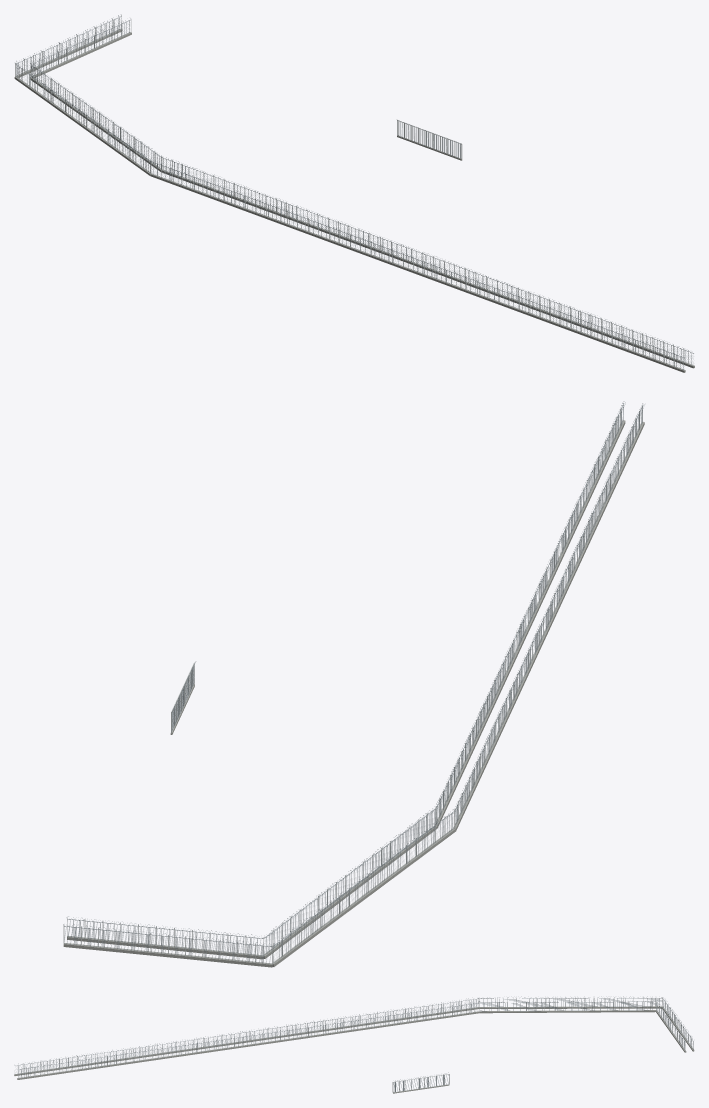
File: security_fence.glb
3 renders of one model, top to bottom at view 1: azimuth 30°, elevation 25°; view 2: azimuth 150°, elevation 25°; view 3: azimuth 270°, elevation 25°, orthographic. The views are drawn at different scales.
Parts seen in each view (by area): view 1: security_fence_158, security_fence_156, security_fence_157; view 2: security_fence_158, security_fence_156, security_fence_157; view 3: security_fence_158, security_fence_156, security_fence_157.
Boxes of the visible parts, x1=… form: security_fence_158: x1=15, y1=14, x2=693, y2=370; security_fence_156: x1=14, y1=29, x2=694, y2=372; security_fence_157: x1=15, y1=15, x2=684, y2=366; security_fence_158: x1=63, y1=401, x2=644, y2=963; security_fence_156: x1=63, y1=420, x2=644, y2=967; security_fence_157: x1=63, y1=409, x2=639, y2=964; security_fence_158: x1=14, y1=996, x2=693, y2=1091; security_fence_156: x1=14, y1=1006, x2=694, y2=1093; security_fence_157: x1=23, y1=997, x2=691, y2=1092.
Size of the model in its own units: 52.11 by 3.52 by 175.
Materials: 3 (1 with a texture image).
